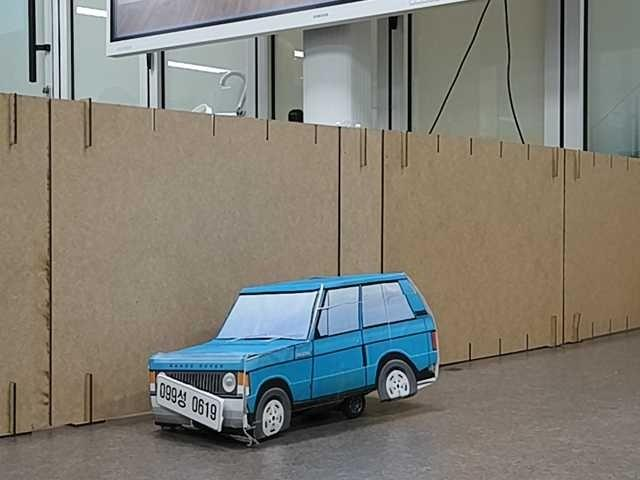car: (142, 272, 443, 443)
id: (153, 372, 224, 432)
